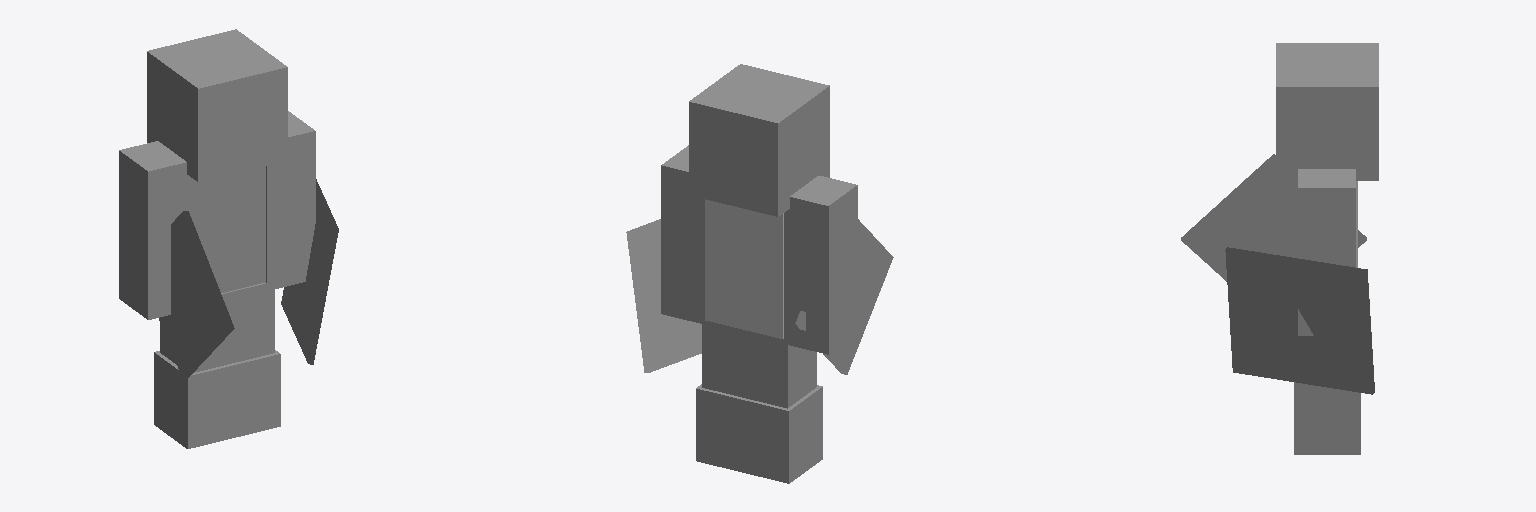
Rendered from clothing_mannequin.obj.
The picture shows the model from 3 angles: view 1: azimuth 30°, elevation 25°; view 2: azimuth 150°, elevation 25°; view 3: azimuth 270°, elevation 25°; orthographic projection.
Visible parts, largest first — view 1: Player_Cube; view 2: Player_Cube; view 3: Player_Cube.
Boxes of the visible parts, x1,y1,x2,y2 form: Player_Cube: [119, 29, 338, 448]; Player_Cube: [626, 64, 893, 483]; Player_Cube: [1181, 43, 1378, 454].
Size of the model in its own units: 10.14 by 18 by 8.8.